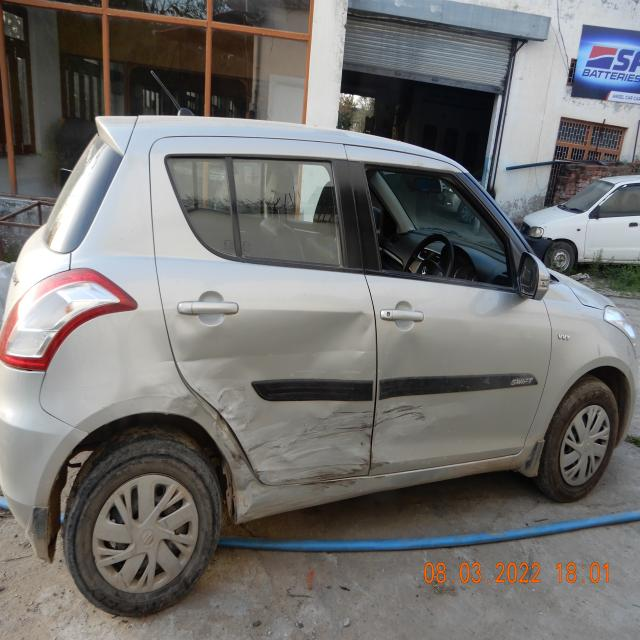damage: (264, 390, 373, 476), (176, 344, 374, 368), (218, 377, 255, 434), (223, 441, 250, 514), (377, 404, 427, 429), (353, 311, 372, 336)
